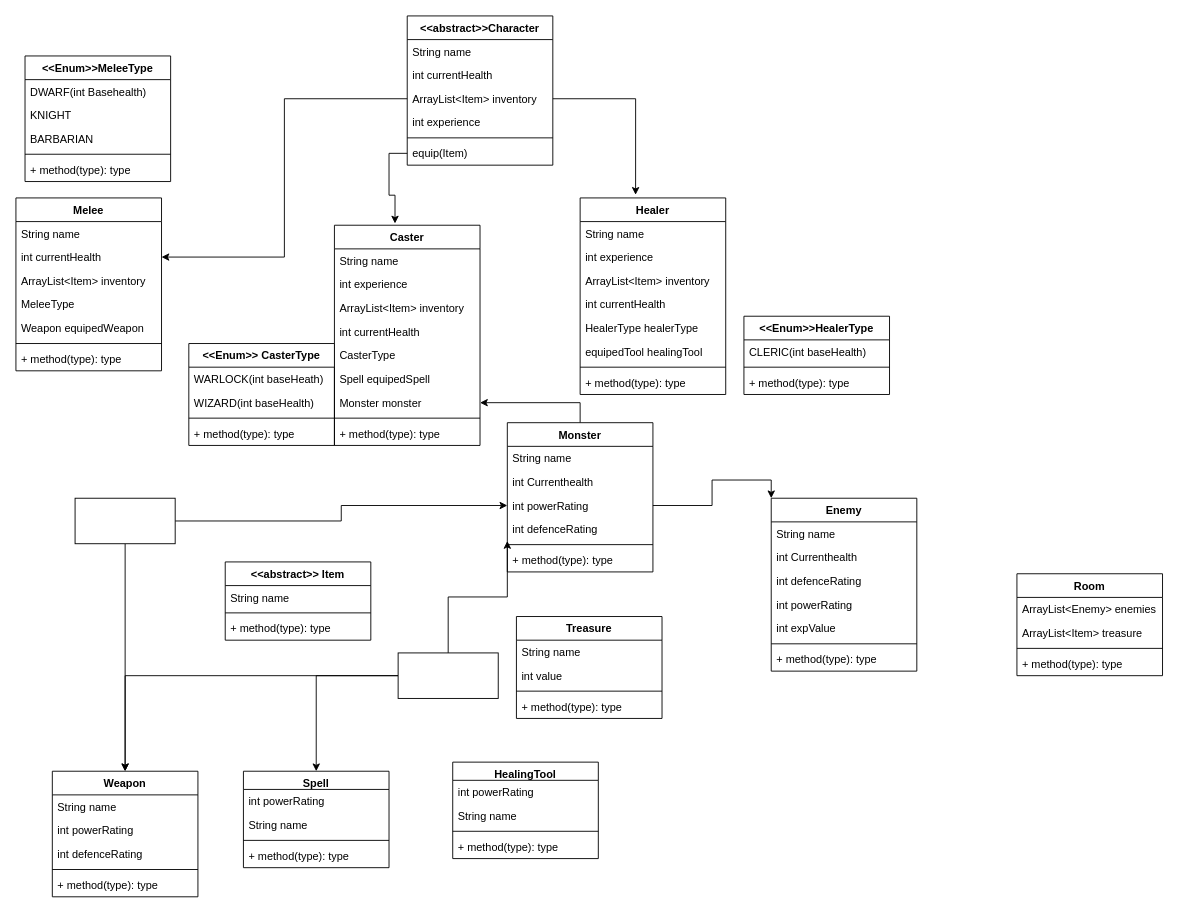
Some shapes in this 1178 by 915 pixel diagram are drawn without their labels. Here are the shapes that lost their labels. From the top down, the centre of each, then its label:
At (x=124, y=520): "«interface» IDefend".
At (x=447, y=675): "«interface» IAttack".
